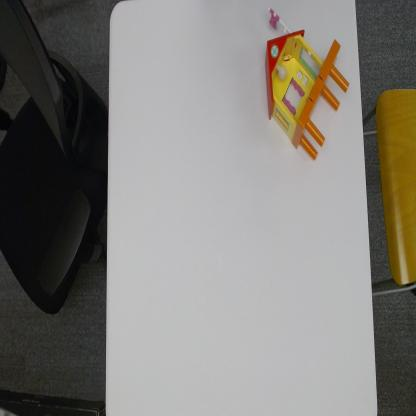House: (264, 3, 350, 159)
